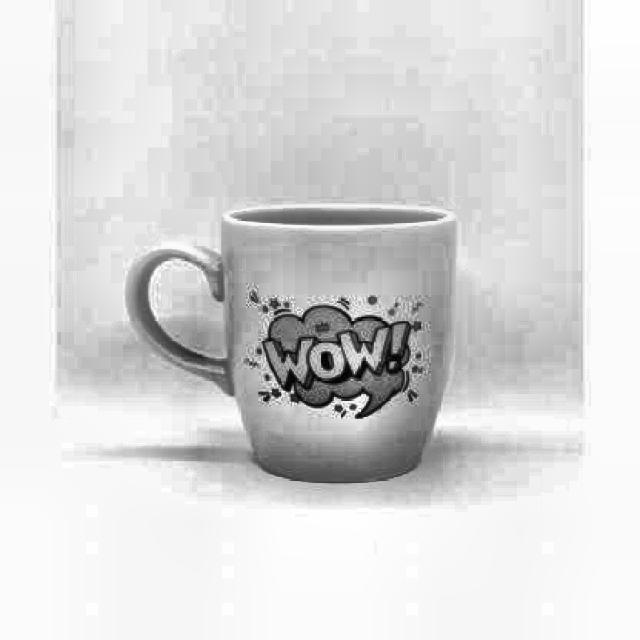Mug: (124, 202, 459, 486)
